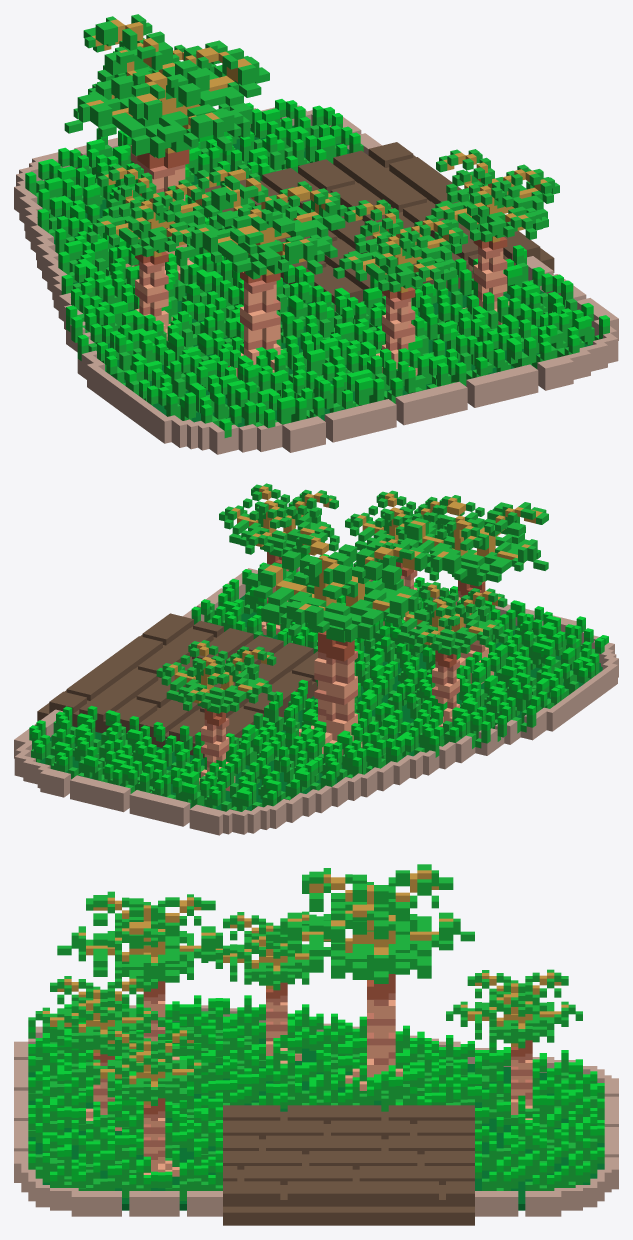
Rendered from start-up-zone-garden.obj.
The picture shows the model from 3 angles, top to bottom: view 1: azimuth 30°, elevation 25°; view 2: azimuth 150°, elevation 25°; view 3: azimuth 270°, elevation 25°; orthographic projection. The views are drawn at different scales.
Size of the model in its own units: 6.6 by 3.3 by 8.4.
1 material, 1 textured.
